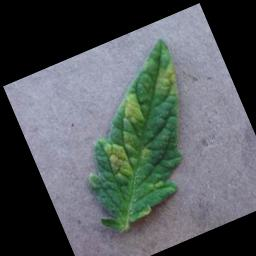Leaf_Mold: (98, 136, 135, 185), (149, 58, 186, 104), (114, 90, 146, 129)
